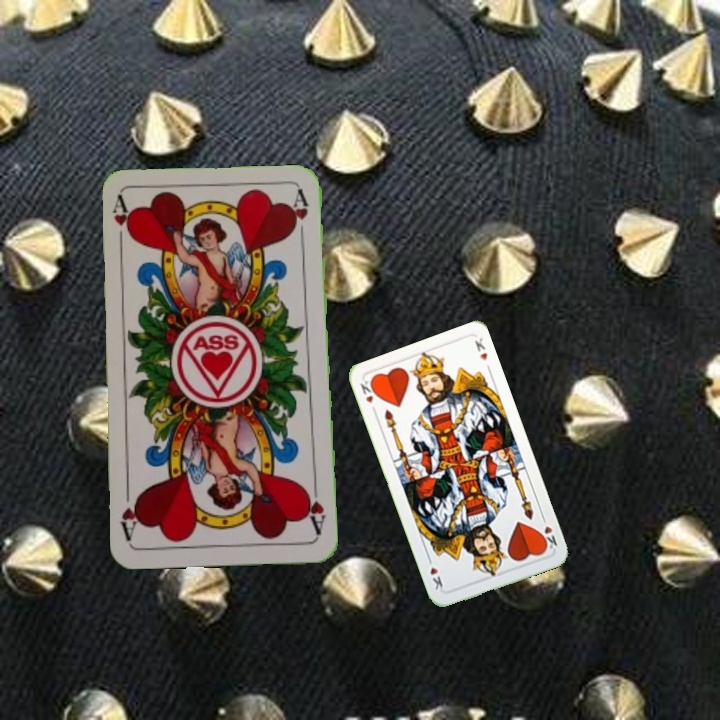HA: (301, 479, 329, 538), (108, 194, 135, 253)
HK: (356, 376, 379, 416), (537, 512, 560, 552)
